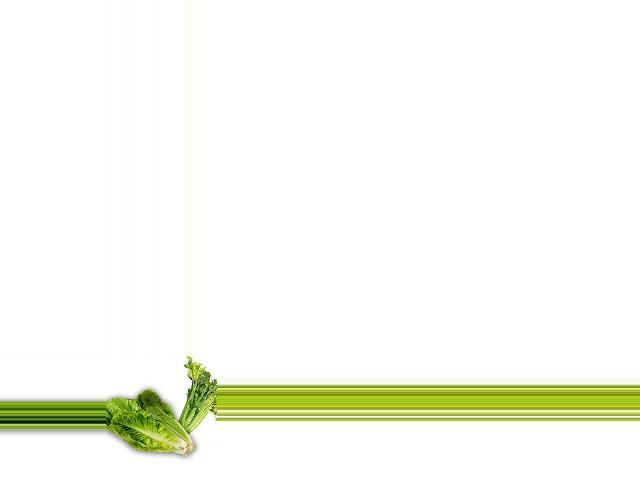lettuce: (105, 382, 199, 452)
